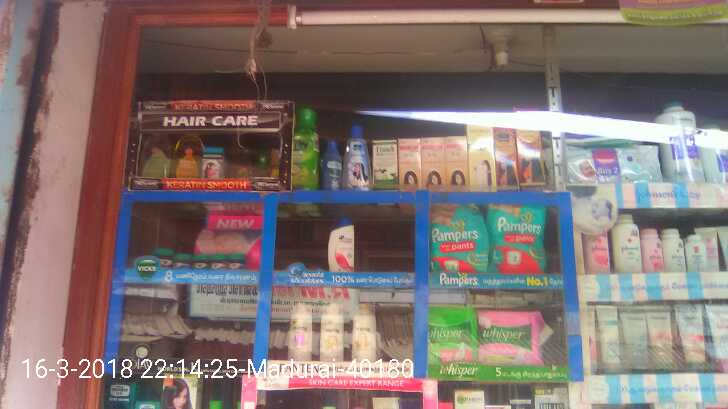vicks: (150, 245, 247, 270)
